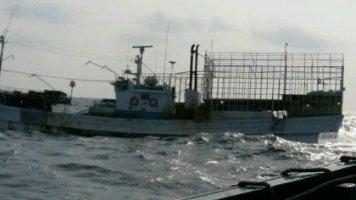Ship: (1, 40, 354, 150)
